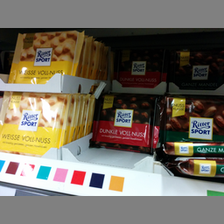chocolate: (2, 92, 68, 155), (5, 32, 81, 86), (160, 93, 224, 153), (93, 93, 156, 153)
